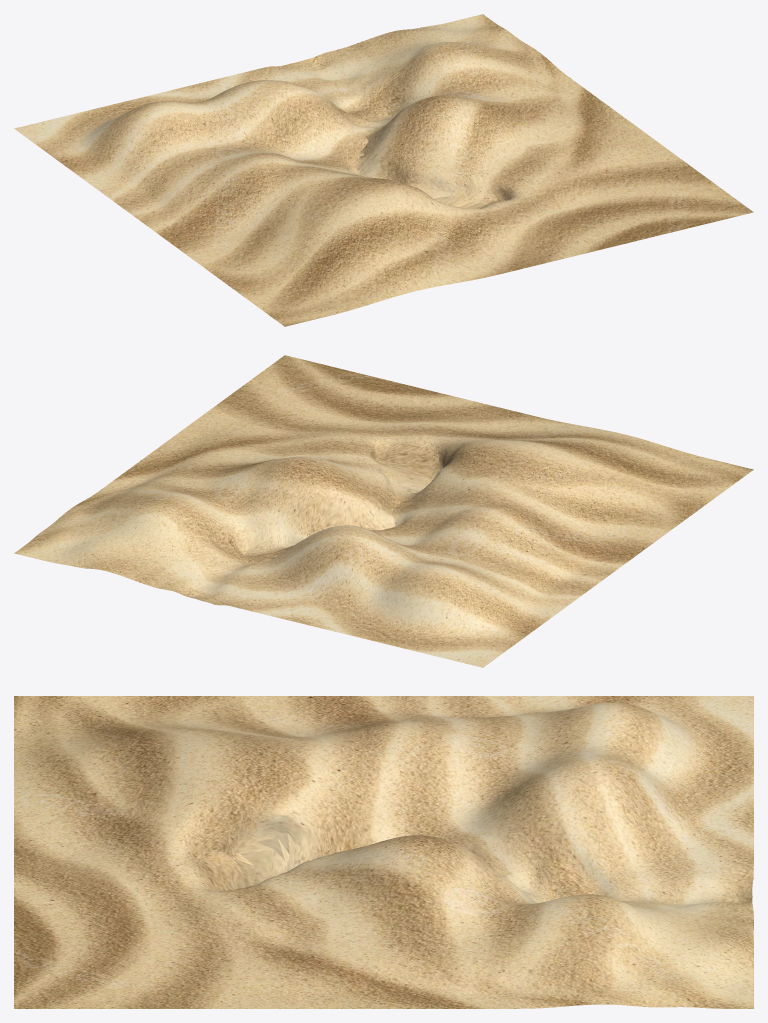
The model's file is Floor.glb.
3 renders of one model, top to bottom at view 1: azimuth 30°, elevation 25°; view 2: azimuth 150°, elevation 25°; view 3: azimuth 270°, elevation 25°, orthographic. The views are drawn at different scales.
Visible parts, largest first — view 1: Plane; view 2: Plane; view 3: Plane.
Part boxes in pixels (x1=…): Plane: x1=14, y1=14, x2=753, y2=326; Plane: x1=14, y1=355, x2=753, y2=667; Plane: x1=14, y1=696, x2=753, y2=1008.
Bounding box in the file's own units: 50.65 × 5.52 × 50.65.
1 material, 1 textured.
